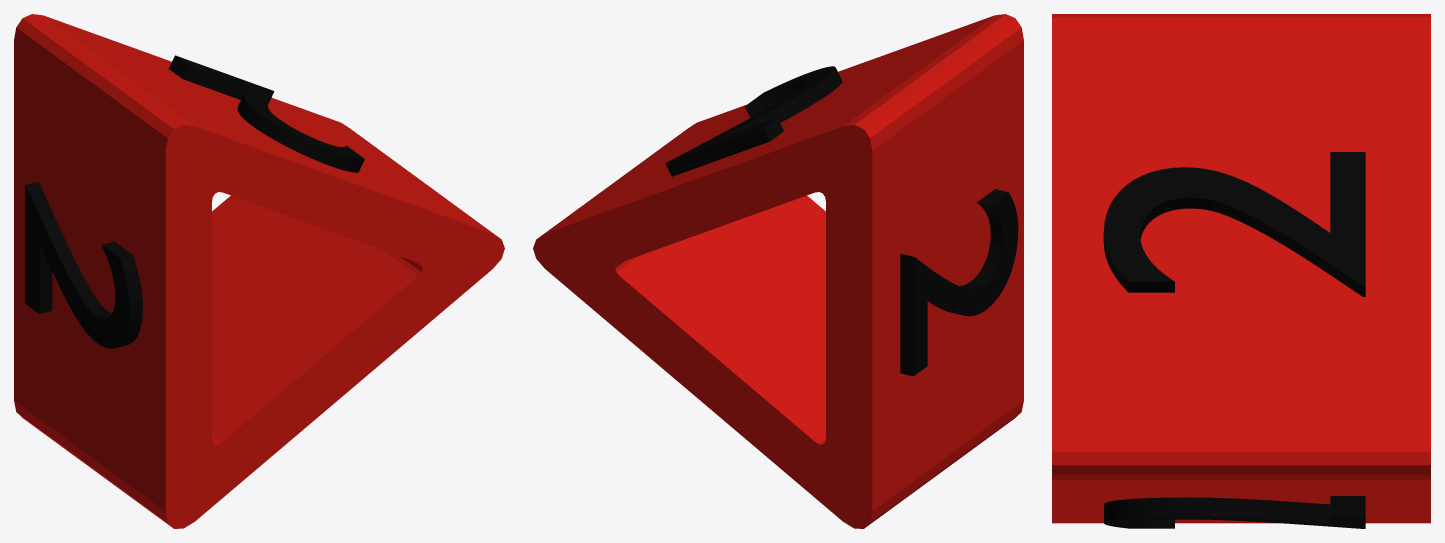
The model's file is Two_shadow.OBJ.
3 renders of one model, left to right at view 1: azimuth 30°, elevation 25°; view 2: azimuth 150°, elevation 25°; view 3: azimuth 270°, elevation 25°, orthographic. The views are drawn at different scales.
Parts seen in each view (by area): view 1: /ambf/icl/Two_shadow_PuzzleRed2; view 2: /ambf/icl/Two_shadow_PuzzleRed2; view 3: /ambf/icl/Two_shadow_PuzzleRed2.
Part boxes in pixels (x1,y1,x2,y2): /ambf/icl/Two_shadow_PuzzleRed2: (14,14,504,528); /ambf/icl/Two_shadow_PuzzleRed2: (533,14,1023,528); /ambf/icl/Two_shadow_PuzzleRed2: (1052,14,1430,528).
Bounding box in the file's own units: 0.131 × 0.1426 × 0.097.
